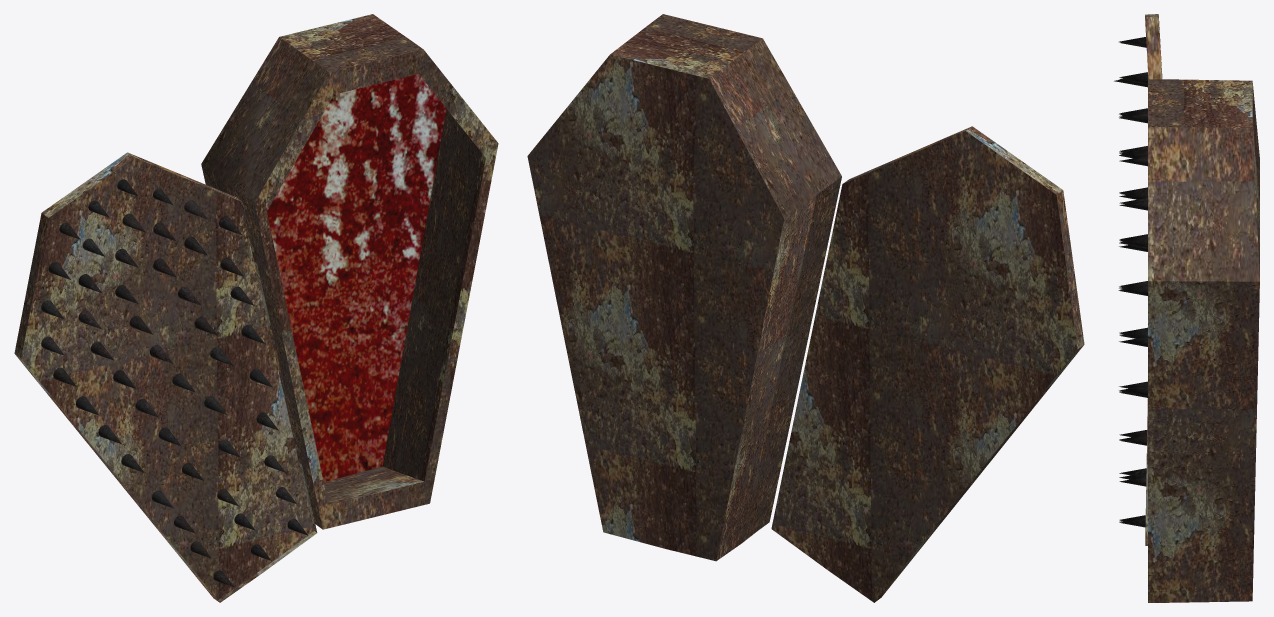
The model's file is ironMaiden.fbx.
3 renders of one model, left to right at view 1: azimuth 30°, elevation 25°; view 2: azimuth 150°, elevation 25°; view 3: azimuth 270°, elevation 25°, orthographic. The views are drawn at different scales.
Visible parts, largest first — view 1: pPlane2; view 2: pPlane2; view 3: pPlane2.
Boxes of the visible parts, box(x1,y1,x2,y2) form: pPlane2: box(14, 14, 498, 602); pPlane2: box(527, 14, 1084, 602); pPlane2: box(1114, 14, 1259, 602).
Bounding box in the file's own units: 8.52 × 8.61 × 2.2.
3 materials, 3 textured.
